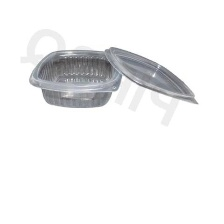plastic_box: (23, 37, 205, 114)
